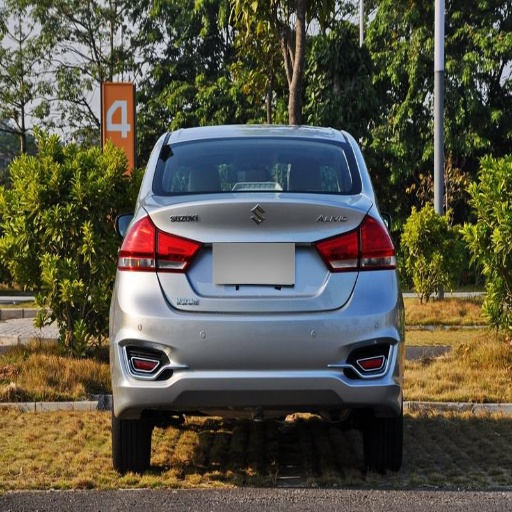back_bumper: (118, 269, 400, 403)
tailgate: (212, 193, 364, 309)
trunk: (146, 197, 250, 310)
